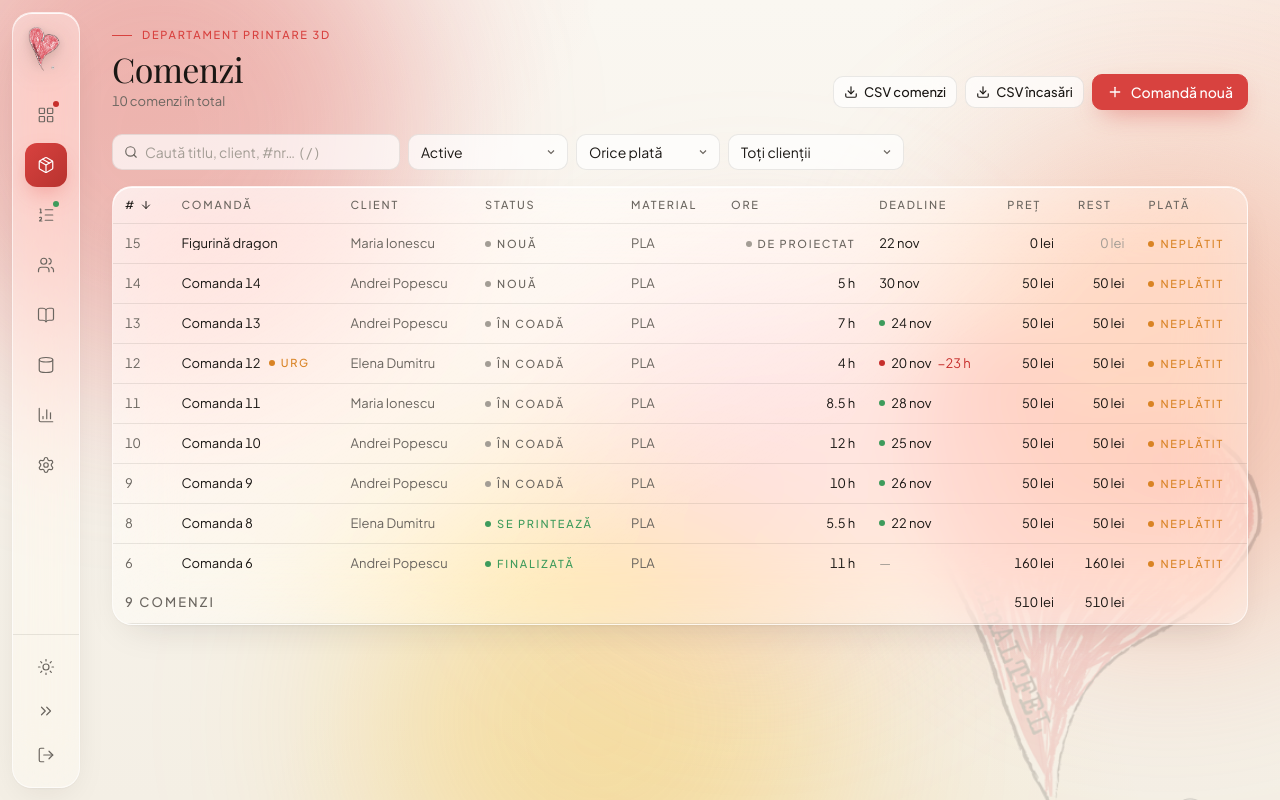
pagini › Formular comandă: validare în română + calculator
Click the button "Comandă nouă": click(1170, 92) 1092,74 -> 1248,110
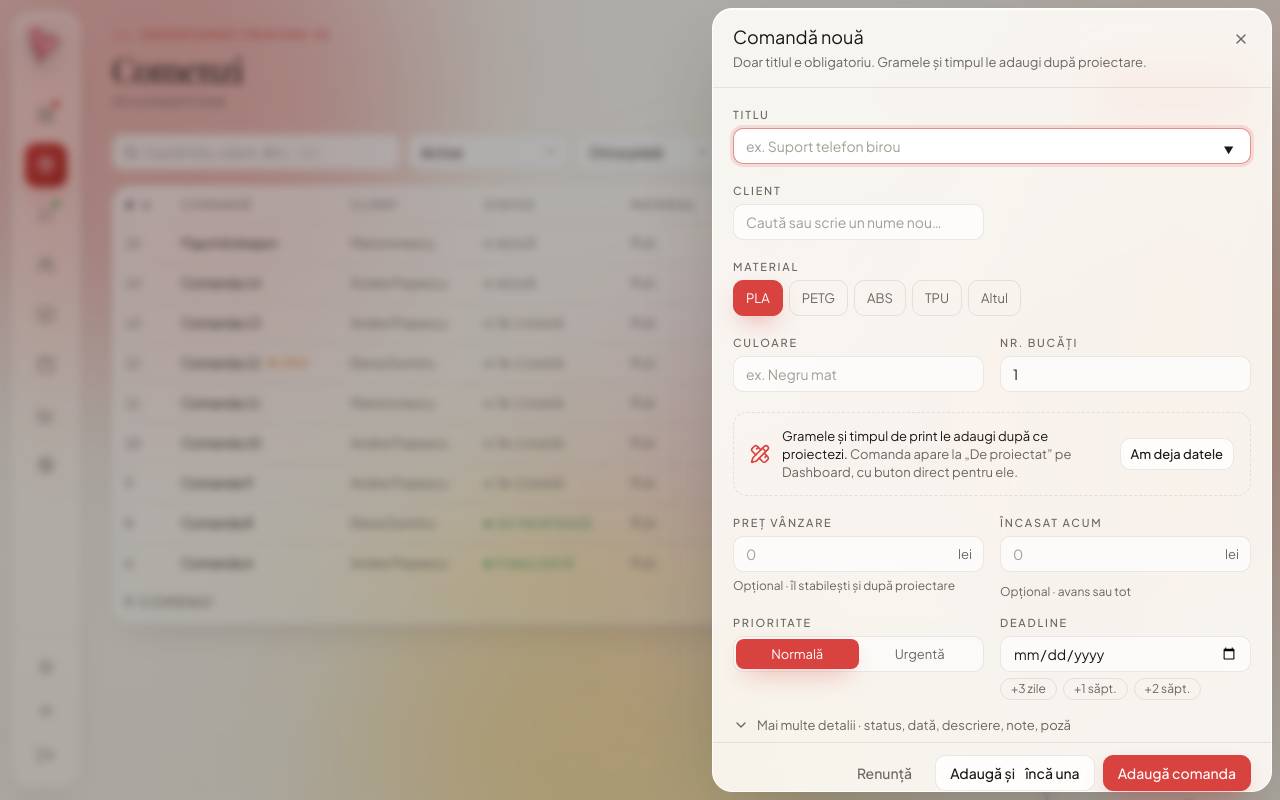
Expected: the text "Calculator cost" is not shown
Click the button "Am deja datele": click(1177, 454) 1120,438 -> 1234,470
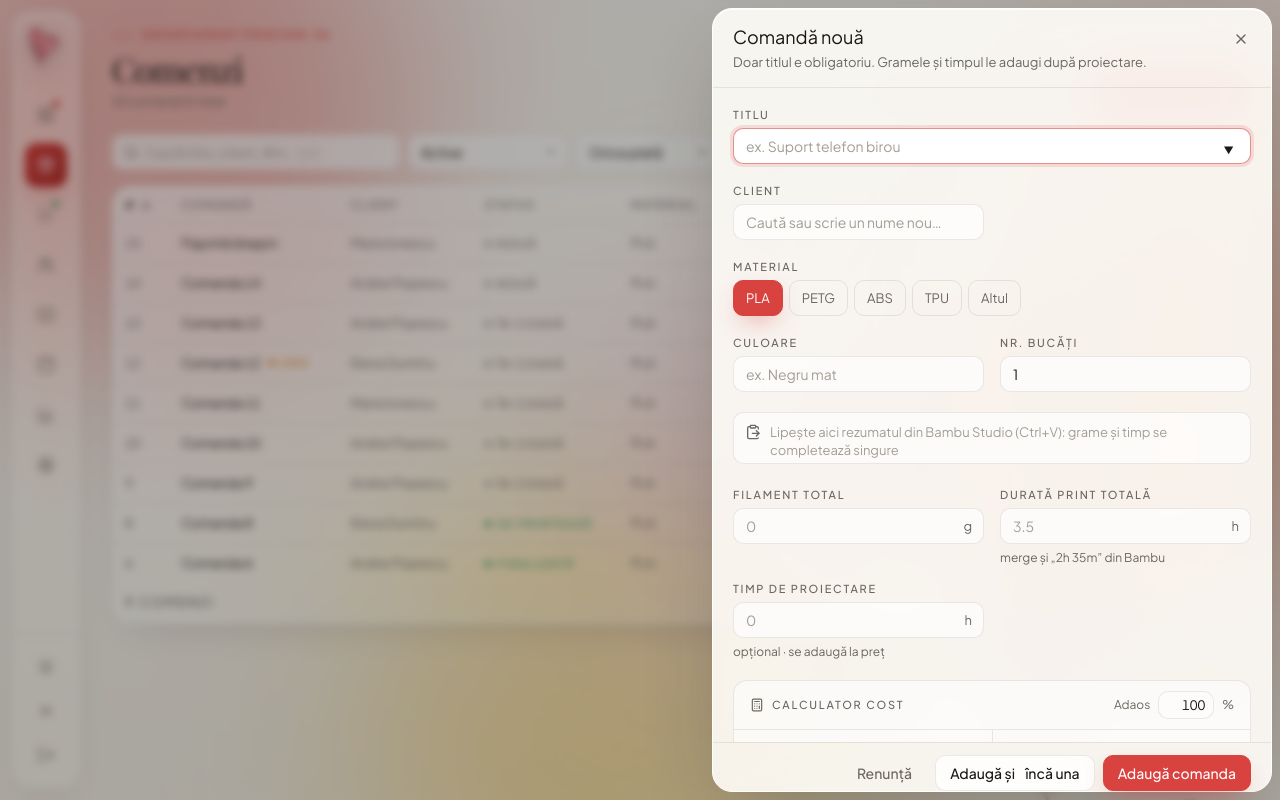
Now the text "Calculator cost" is shown, box 750,698 -> 904,712
In the field labelled "Filament total": (858, 526) 733,508 -> 984,544, type "250"
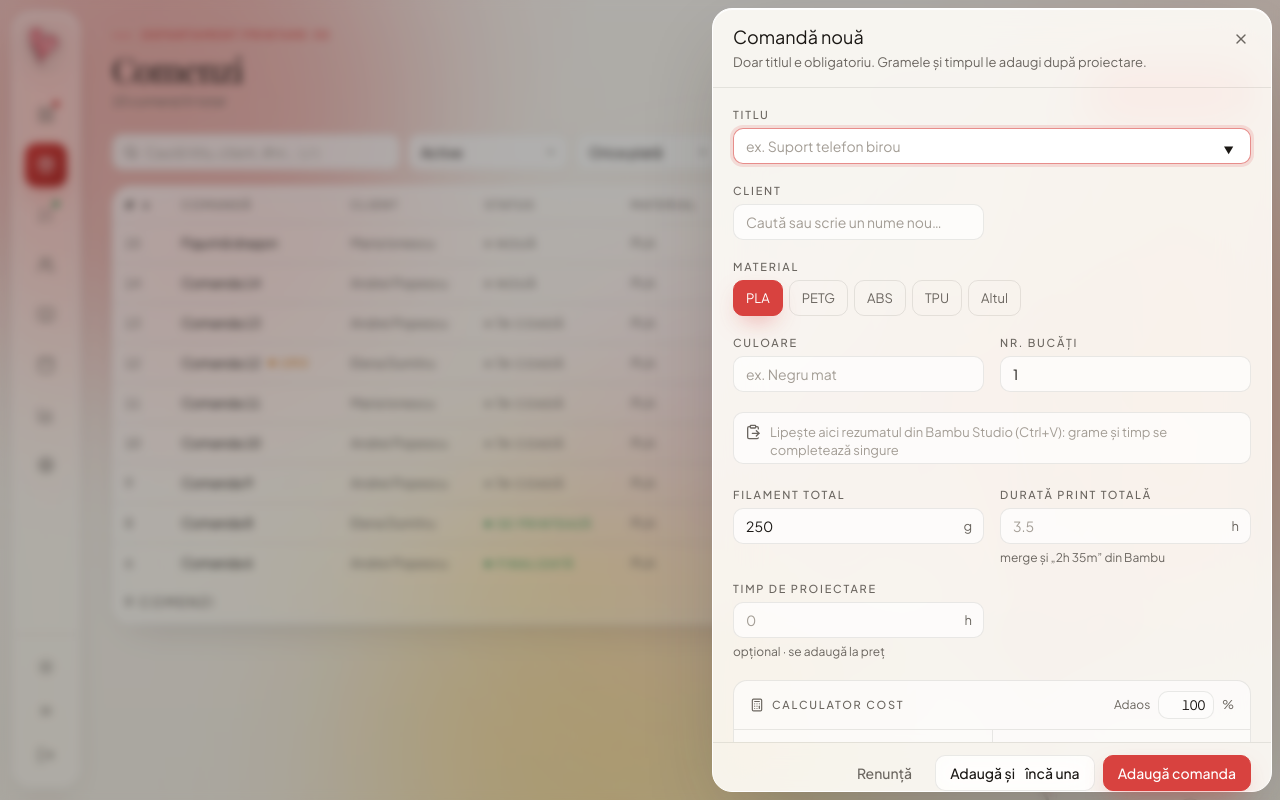
In the field labelled "Durată print totală": (1126, 526) 1000,508 -> 1251,544, type "5"
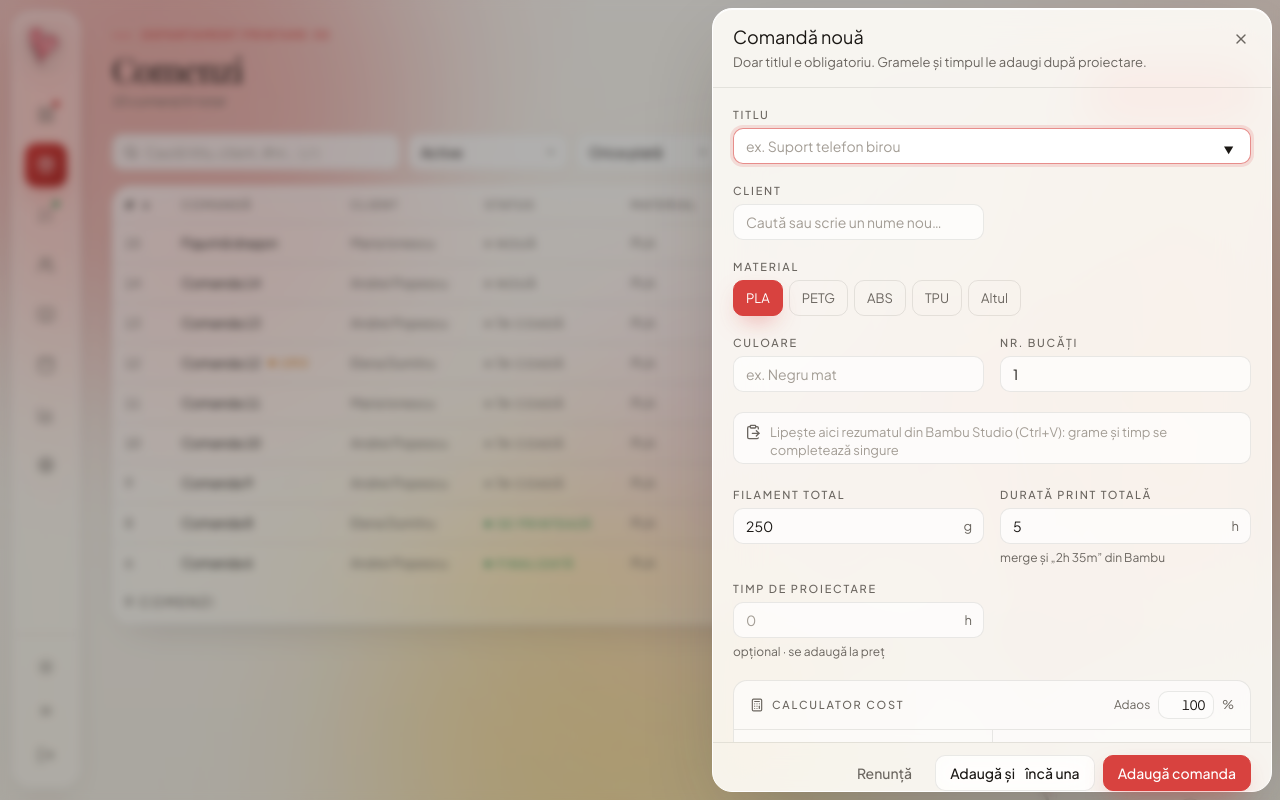
Expected: the text "50 lei" is shown, 995,263 -> 1066,303
2 ore de proiectare × 50 lei/oră se adaugă la prețul sugerat
In the field labelled "Timp de proiectare": (858, 620) 733,602 -> 984,638, type "2"
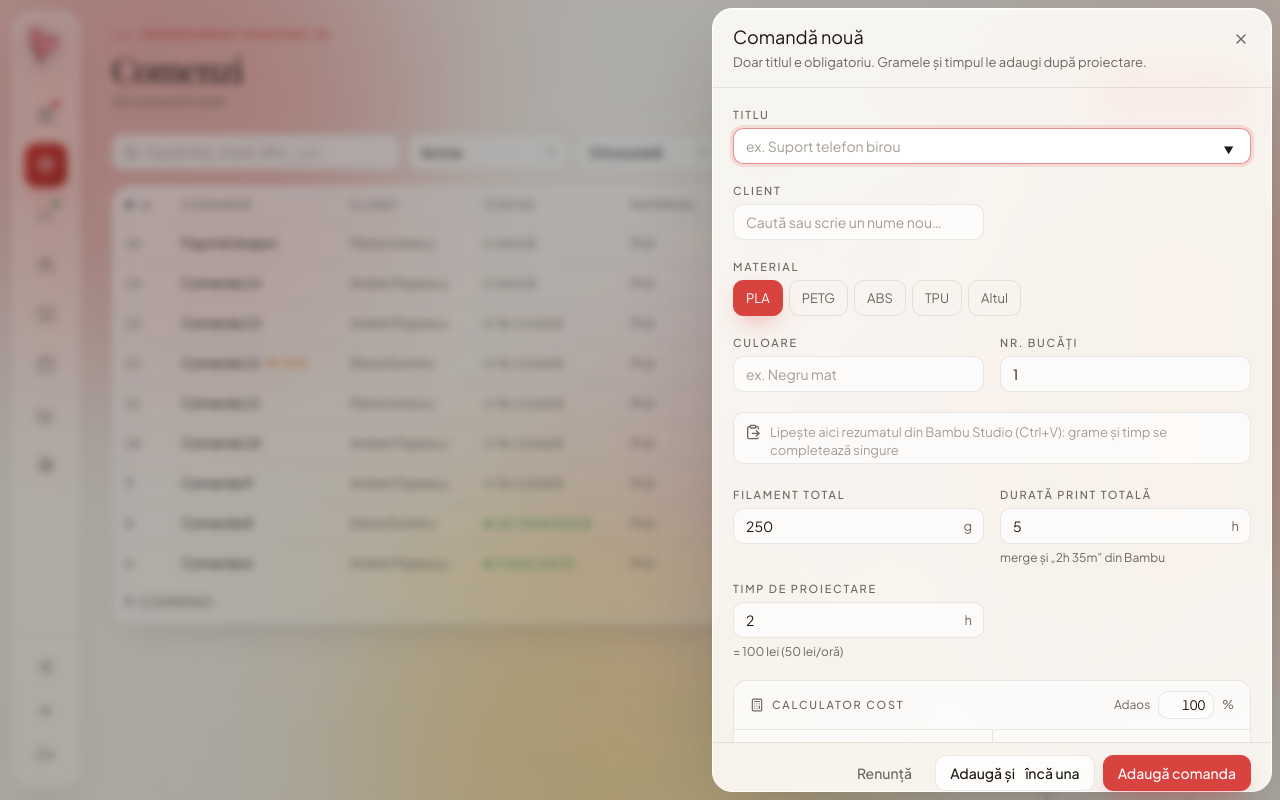
Click the button "Adaugă comanda": click(1177, 773) 1103,755 -> 1251,791
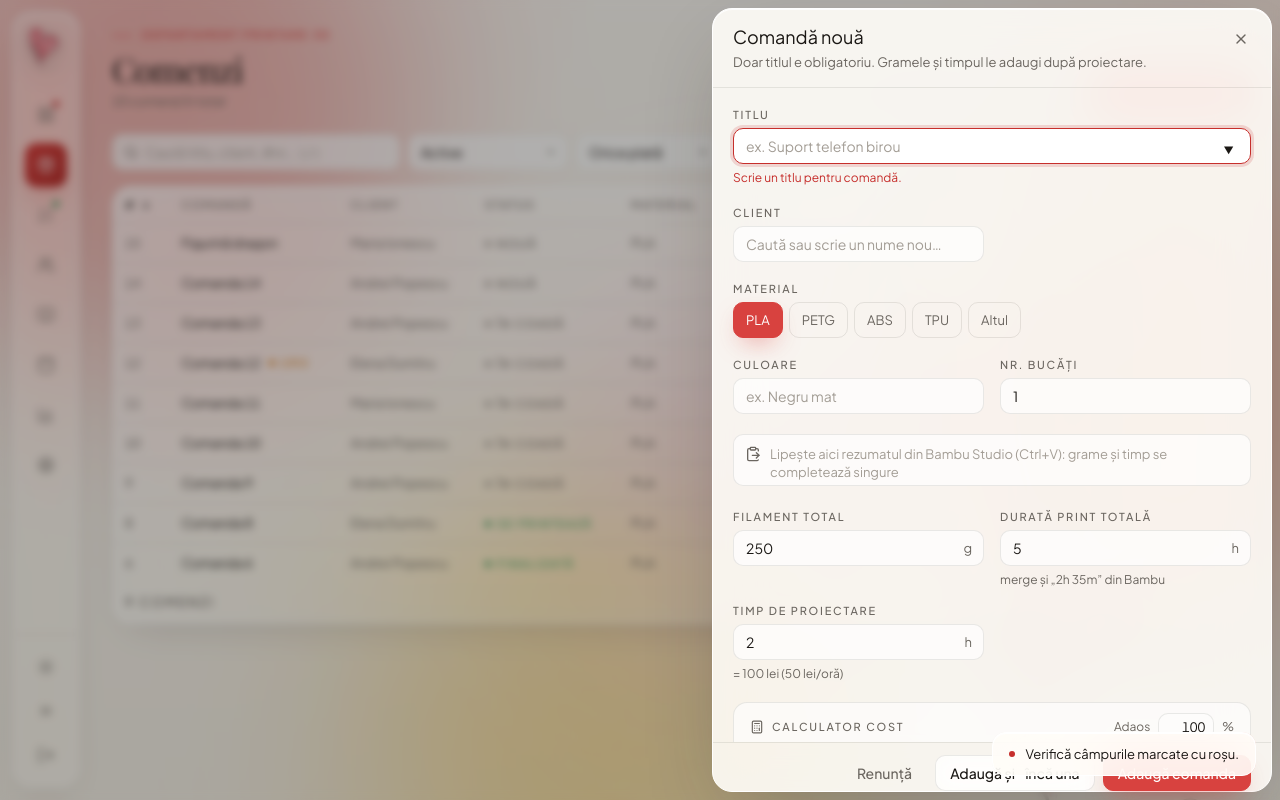
Now the text "Scrie un titlu pentru comandă." is shown, box 733,170 -> 902,185
